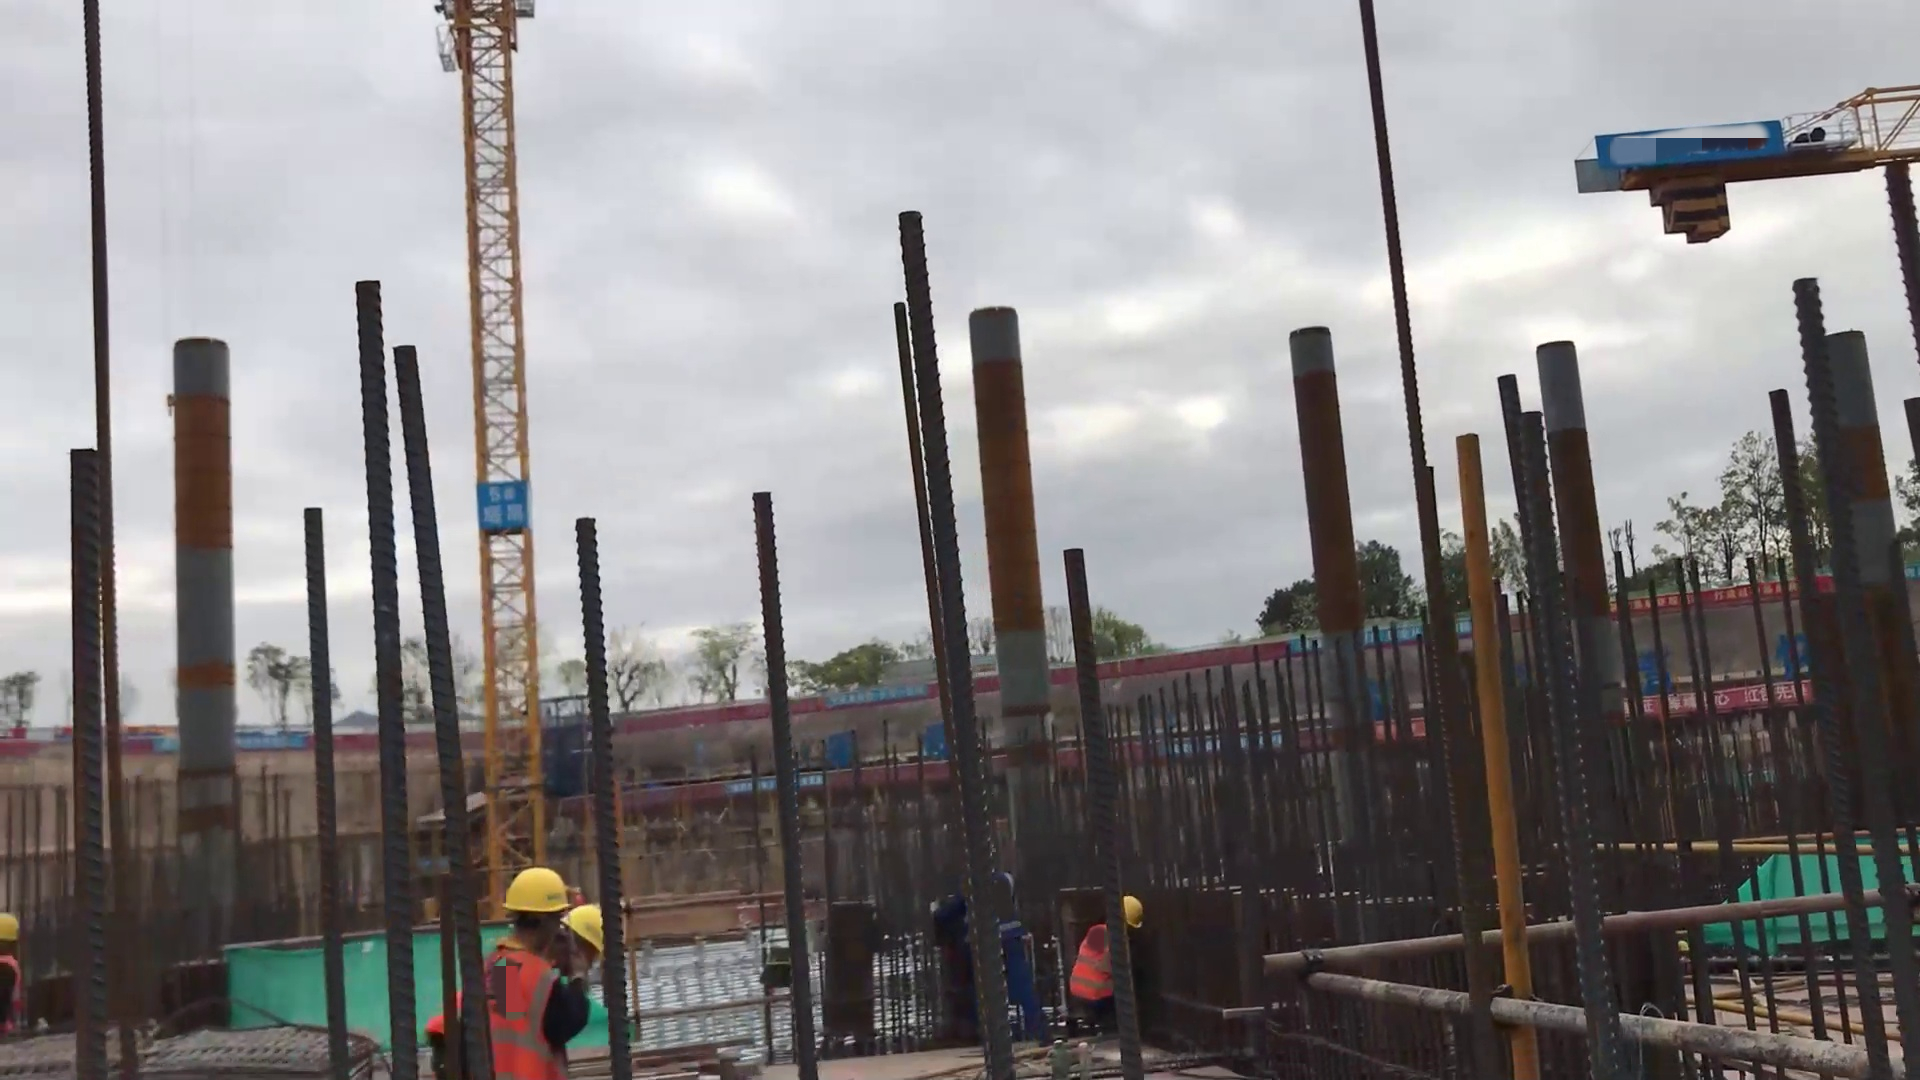helmet: (497, 866, 566, 921), (554, 899, 610, 955), (1120, 894, 1159, 945), (4, 914, 24, 948)
person: (421, 866, 616, 1070), (1063, 891, 1145, 1056), (1, 906, 31, 1049)
vest: (460, 939, 569, 1075), (1068, 921, 1121, 1008)
